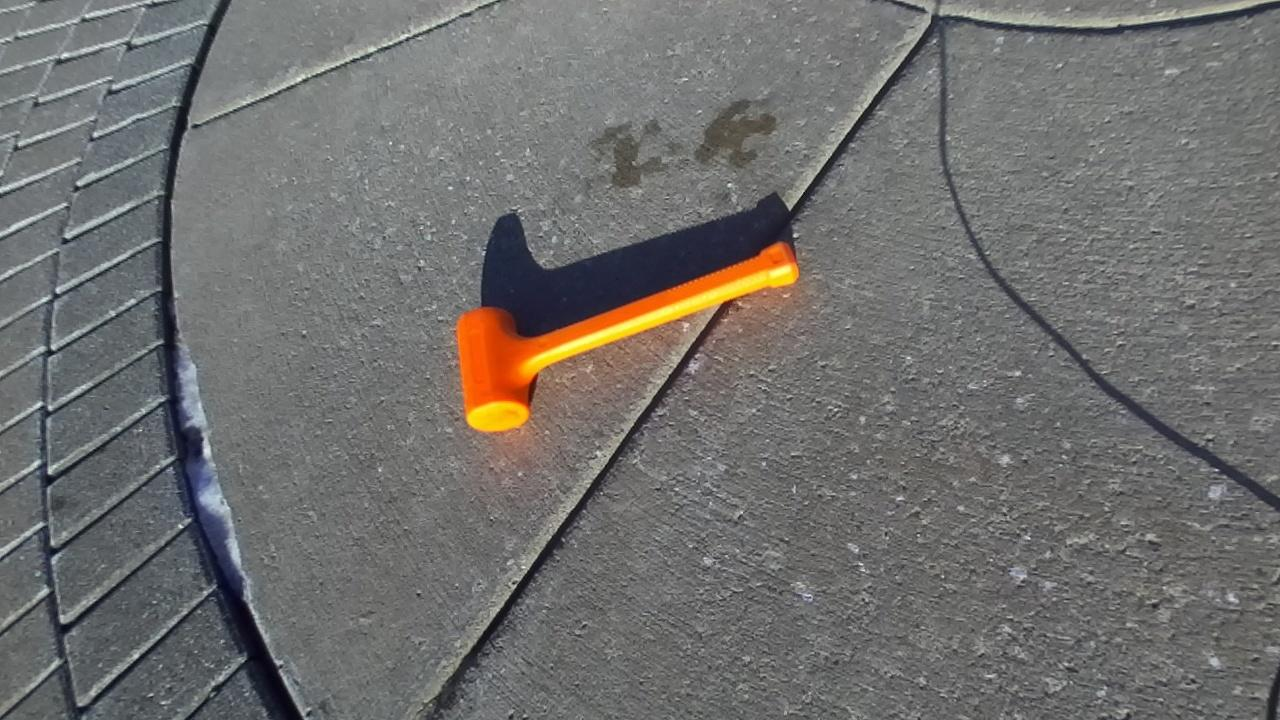mallet: (457, 241, 798, 431)
